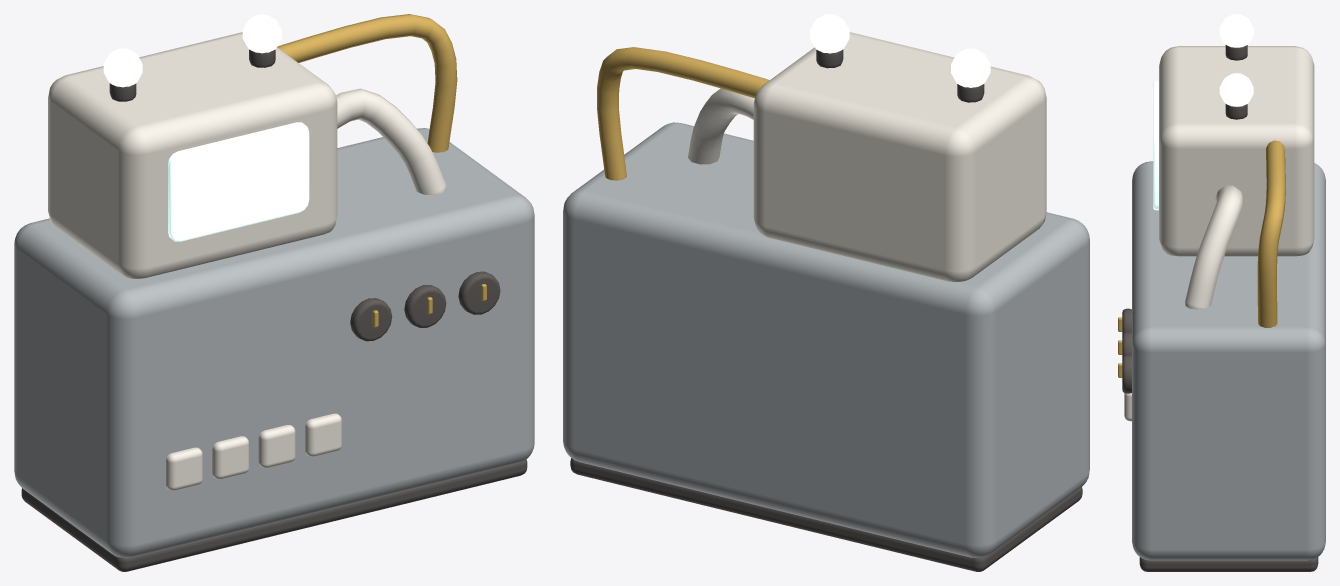
File: lab_machine.glb
3 views of the same model, side by side, from view 1: azimuth 30°, elevation 25°; view 2: azimuth 150°, elevation 25°; view 3: azimuth 270°, elevation 25° (orthographic). The views are drawn at different scales.
Parts seen in each view (by area): view 1: lab_machine_mesh; view 2: lab_machine_mesh; view 3: lab_machine_mesh.
Boxes of the visible parts, <box> form: lab_machine_mesh: <box>14,14,534,571</box>; lab_machine_mesh: <box>563,14,1089,571</box>; lab_machine_mesh: <box>1118,14,1325,571</box>.
Bounding box in the file's own units: 1.1 × 1.16 × 0.536.
